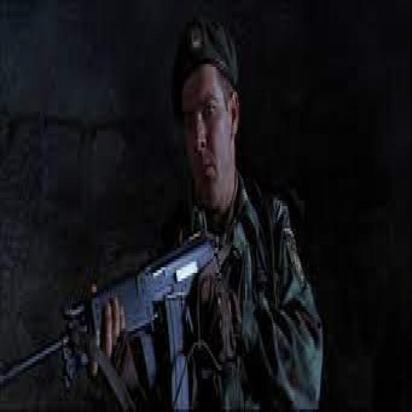Gun: (0, 207, 230, 412)
